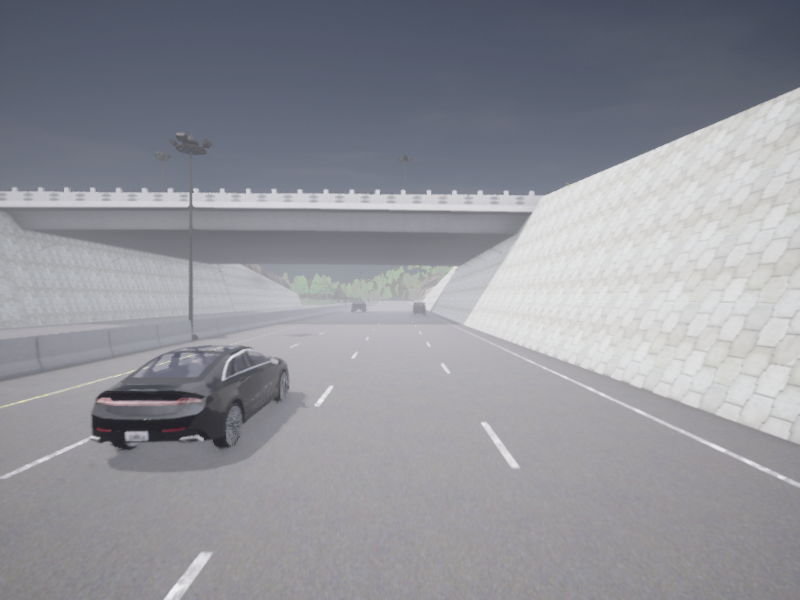vehicle: (89, 345, 288, 448), (412, 302, 424, 314), (352, 301, 366, 311)
